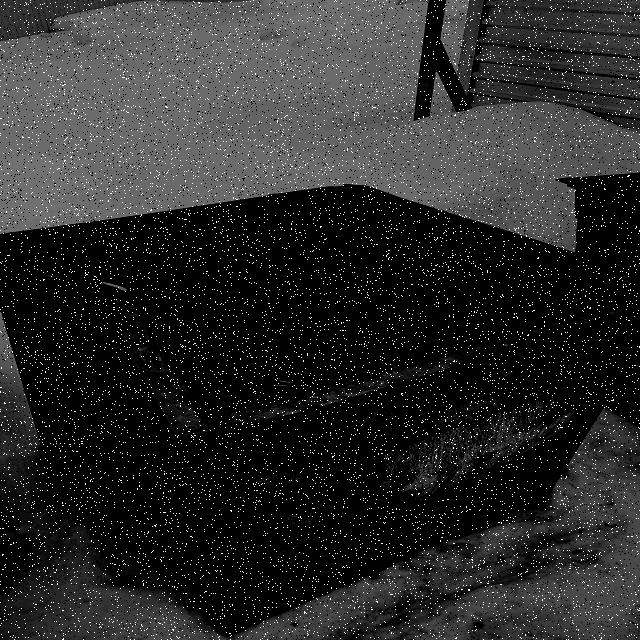Trashcan: (0, 176, 640, 630)
